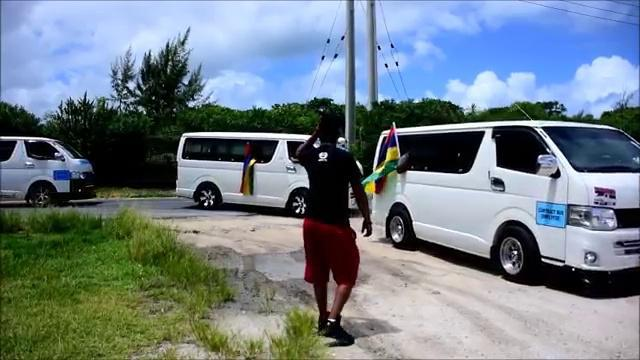van: (369, 122, 640, 290), (172, 125, 356, 218)
